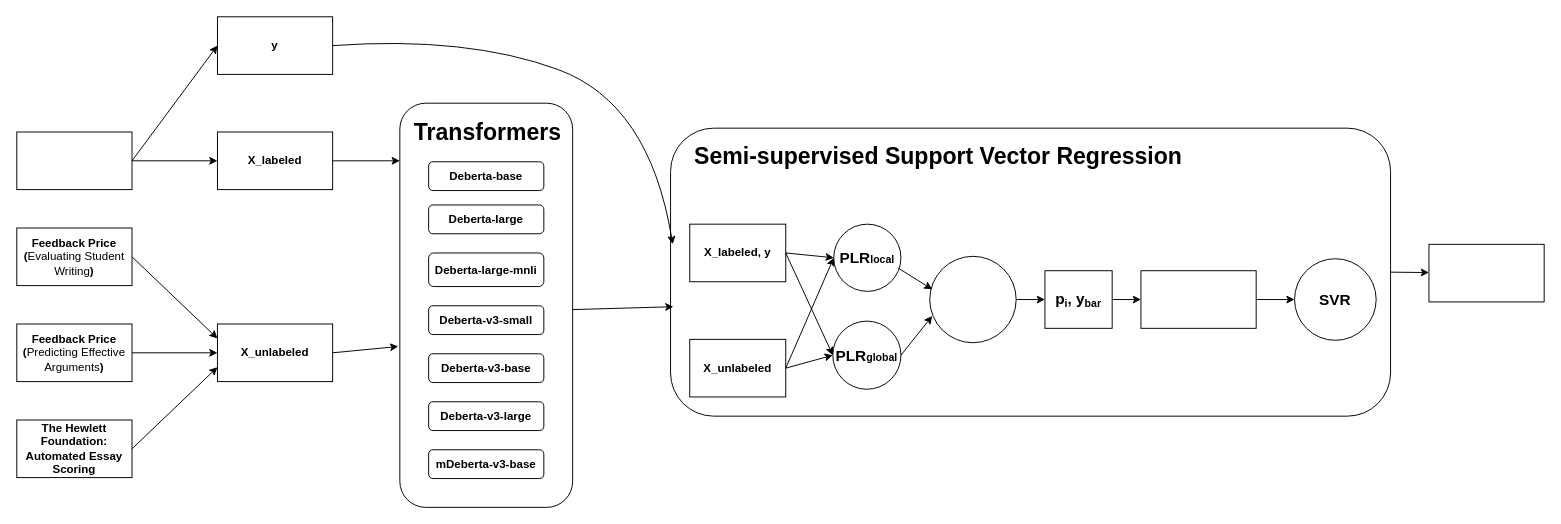
Some shapes in this 1561 by 524 pixel diagram are drawn without their labels. The centre of each missing label's shape, as x and y in pixels:
Feedback Price ( English Language Learning ): the point at 74,160
PLR conjugate: the point at 972,299
Predictions: the point at 1486,272
X hat , y hat: the point at 1198,299
